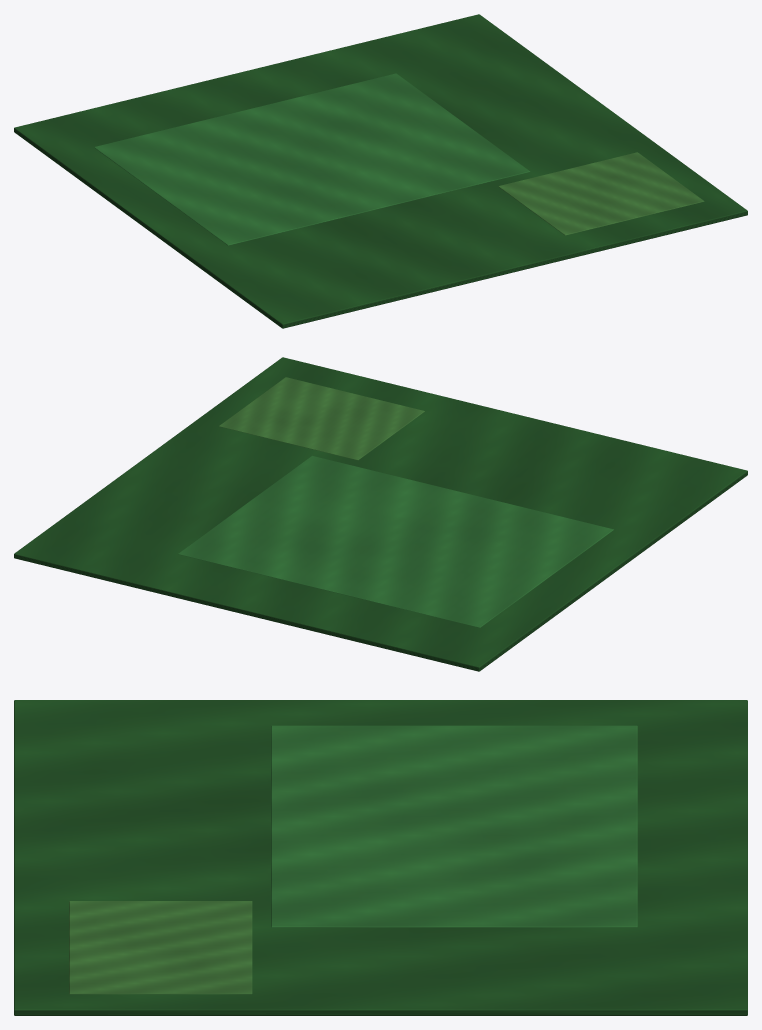
The model's file is road_grass.glb.
3 views of the same model, one above another, from view 1: azimuth 30°, elevation 25°; view 2: azimuth 150°, elevation 25°; view 3: azimuth 270°, elevation 25° (orthographic). The views are drawn at different scales.
Visible parts, largest first — view 1: road_grass_field, road_grass_patch_a, road_grass_patch_b; view 2: road_grass_field, road_grass_patch_a, road_grass_patch_b; view 3: road_grass_field, road_grass_patch_a, road_grass_patch_b.
Boxes of the visible parts, <box> form: road_grass_field: <box>14,14,747,328</box>; road_grass_patch_a: <box>94,73,530,245</box>; road_grass_patch_b: <box>498,152,704,235</box>; road_grass_field: <box>14,357,747,671</box>; road_grass_patch_a: <box>178,455,613,627</box>; road_grass_patch_b: <box>219,377,424,460</box>; road_grass_field: <box>14,700,747,1015</box>; road_grass_patch_a: <box>271,725,637,927</box>; road_grass_patch_b: <box>69,901,252,994</box>.
Bounding box in the file's own units: 4 × 0.044 × 4.
Materials: 3 (3 with a texture image).
